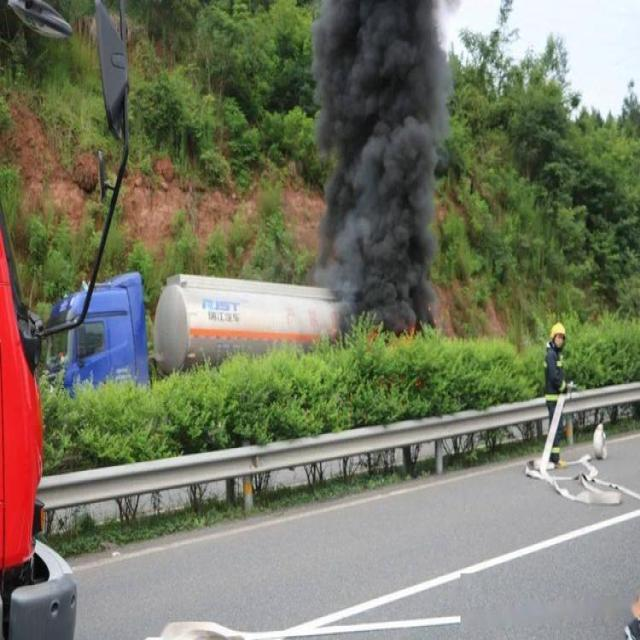Smoke: (313, 0, 448, 326)
